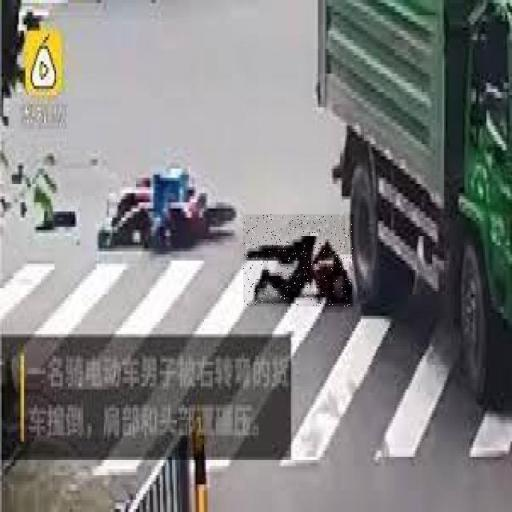Fall: (243, 215, 354, 307)
